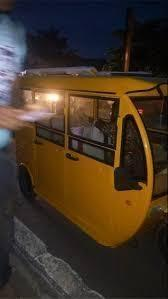keke: (10, 0, 168, 295)
